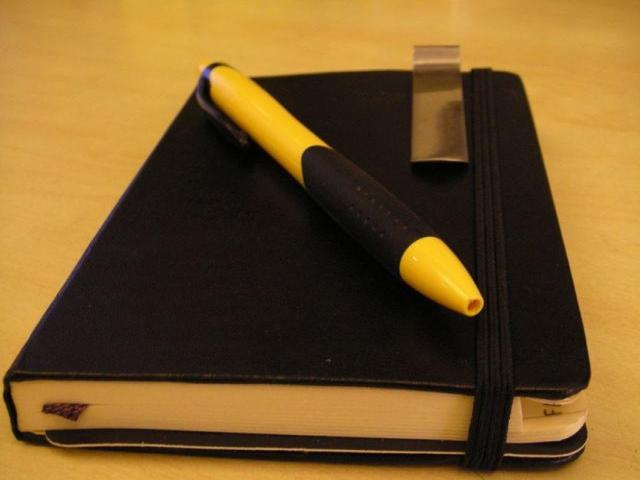PEN: (176, 34, 524, 351)
